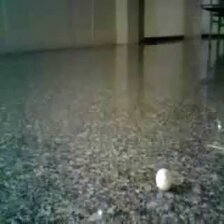w: (155, 168, 174, 191)
